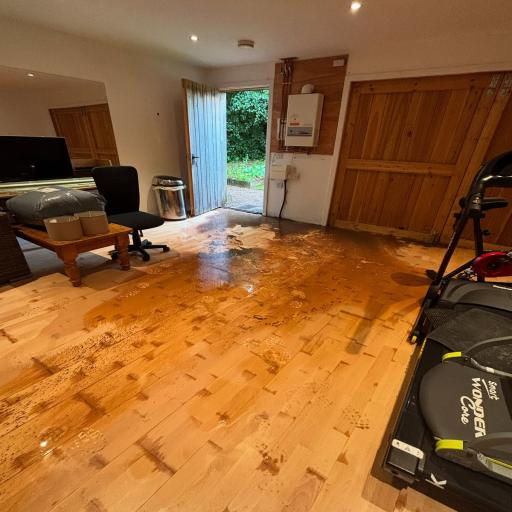bottle: (91, 165, 174, 265)
child: (180, 78, 228, 220)
phone: (6, 208, 136, 291)
ramp: (150, 173, 192, 225)
